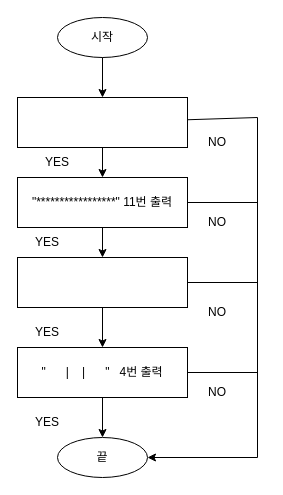
This 283x495 diagram has some shape labels left out. The centre of each missing label's shape, as x and y in pixels:
"iceCream 호출(값은 11)" goes at point 102,122.
"woodBar 호출(값은 4)" goes at point 102,282.
